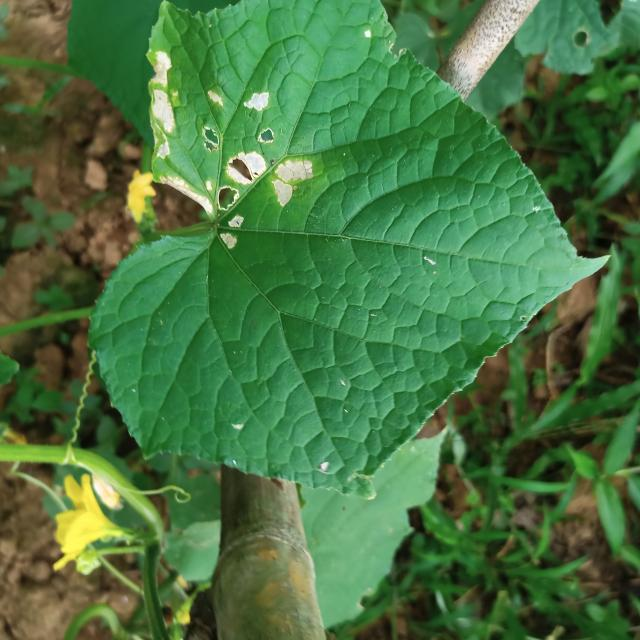disease_cucumber: (150, 52, 313, 248)
